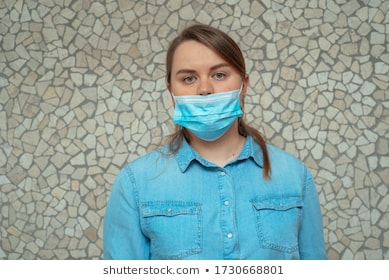mask_weared_incorrect: (173, 62, 237, 131)
